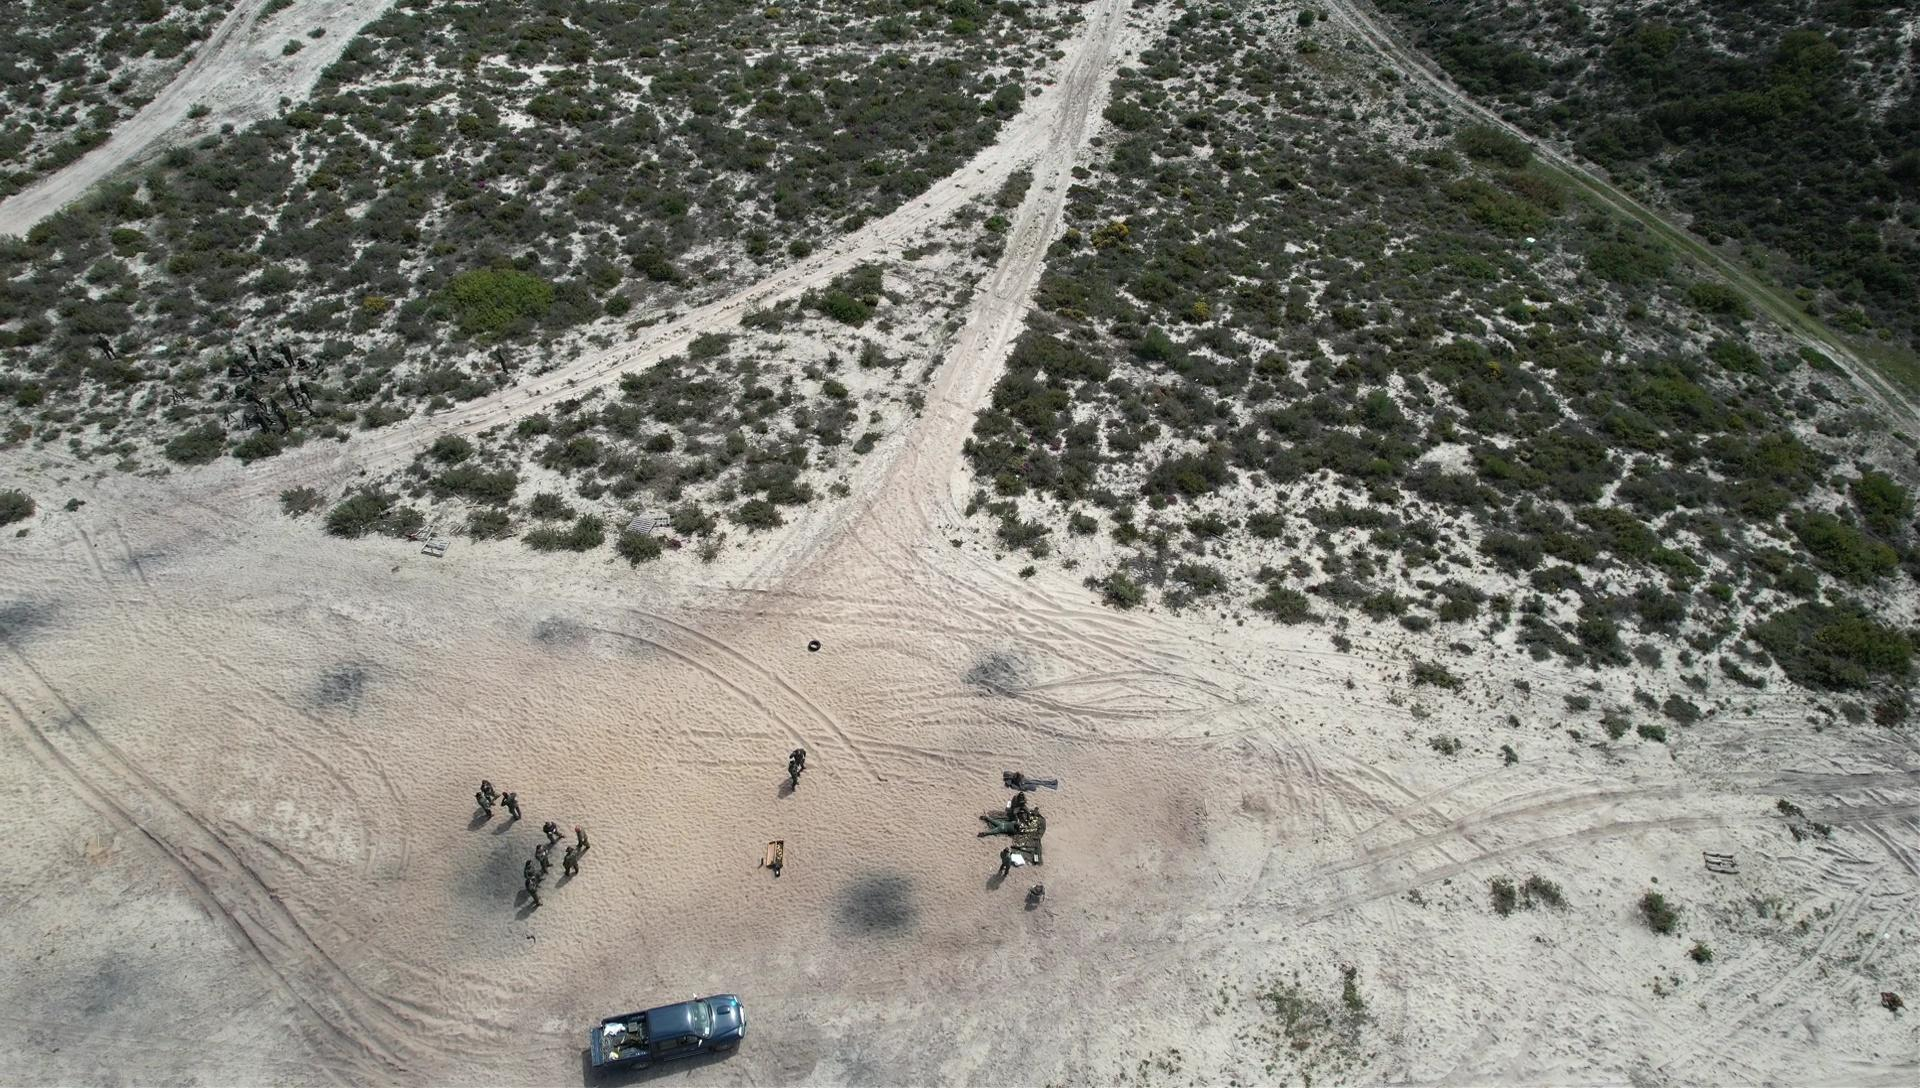Soldier: (984, 808, 1047, 843), (508, 820, 541, 857), (992, 851, 1019, 892), (538, 814, 564, 851), (782, 756, 807, 793), (568, 826, 596, 857), (560, 845, 584, 881), (522, 876, 546, 909), (475, 793, 496, 827), (533, 845, 556, 874), (477, 774, 498, 802), (1007, 798, 1027, 827), (520, 874, 541, 901), (790, 742, 808, 768)
